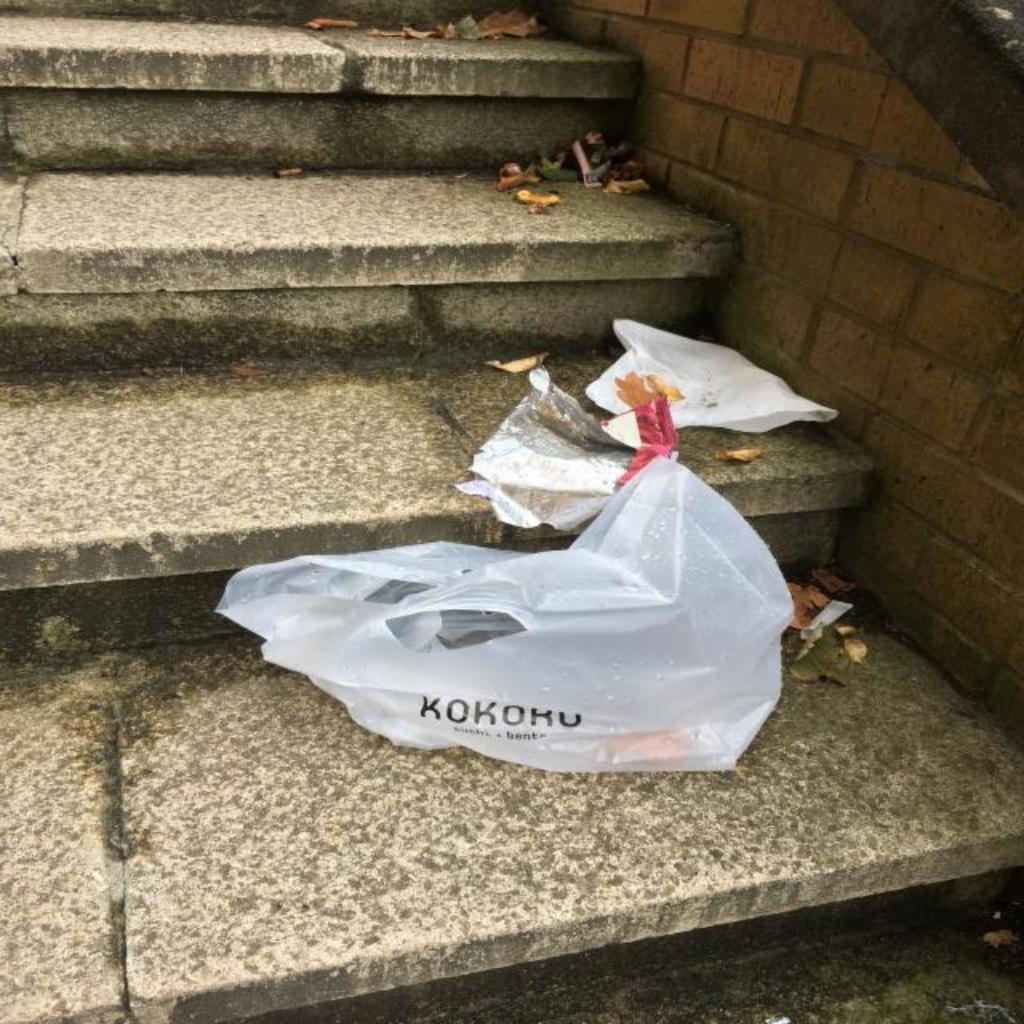garbage: (219, 465, 808, 775), (459, 364, 678, 527), (586, 318, 843, 435)
